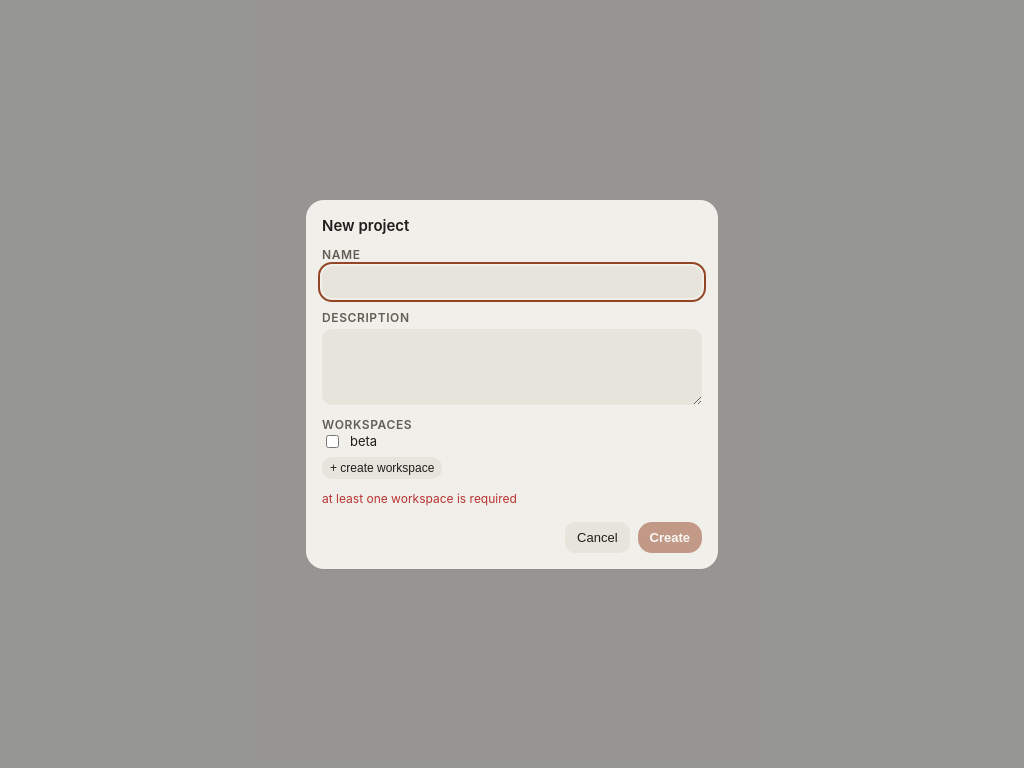
Test: CreateProjectDialog › inline "create workspace": pickFolder -> createWorkspace -> adds the new workspace to the selection
This screenshot has width=1024, height=768.
Click the button with test id "create-project-new-workspace" at [382, 468], box top-left (322, 456), bottom-right (442, 478)
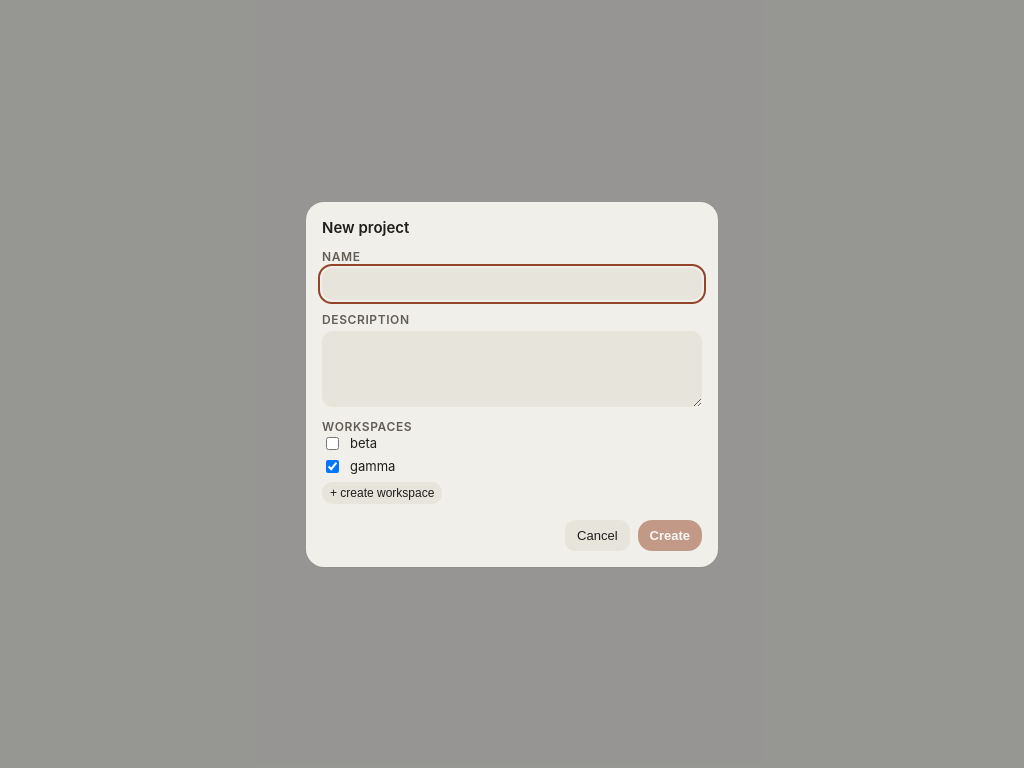
Check: the checkbox with test id "create-project-ws-w3" is checked, box top-left (326, 460), bottom-right (339, 472)
Check: the message with test id "create-project-blocked" is gone
